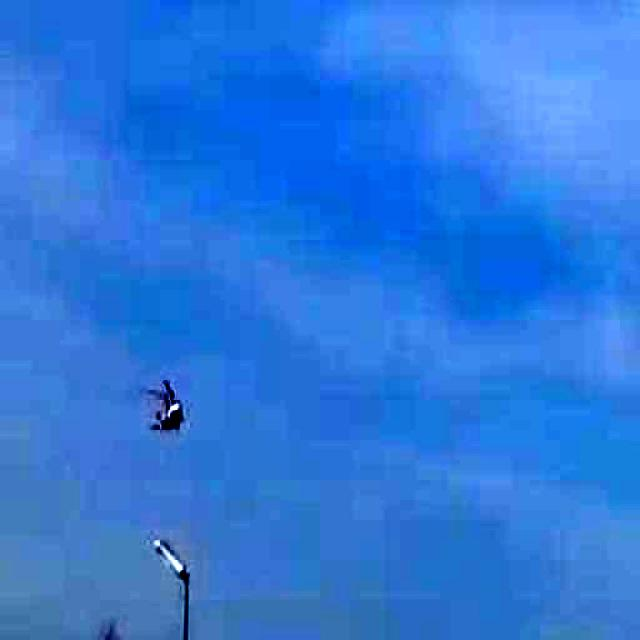drone: (124, 364, 212, 440)
